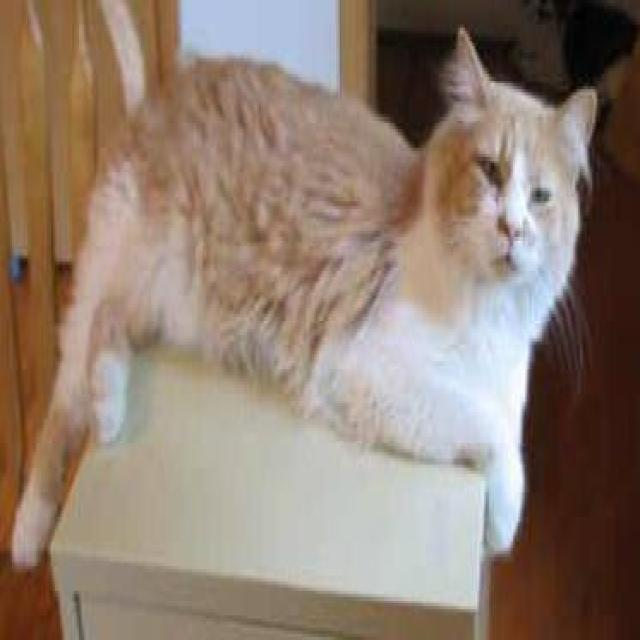cat: (10, 0, 599, 566)
